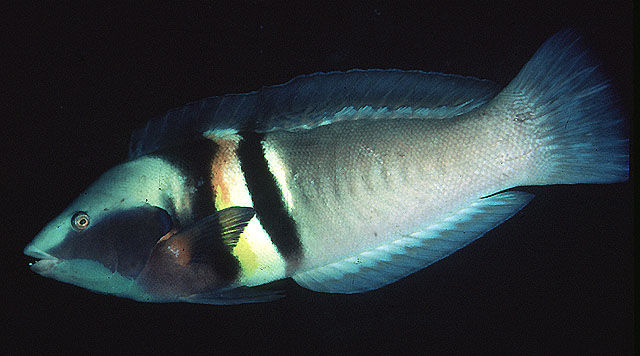fish: (24, 26, 630, 306)
